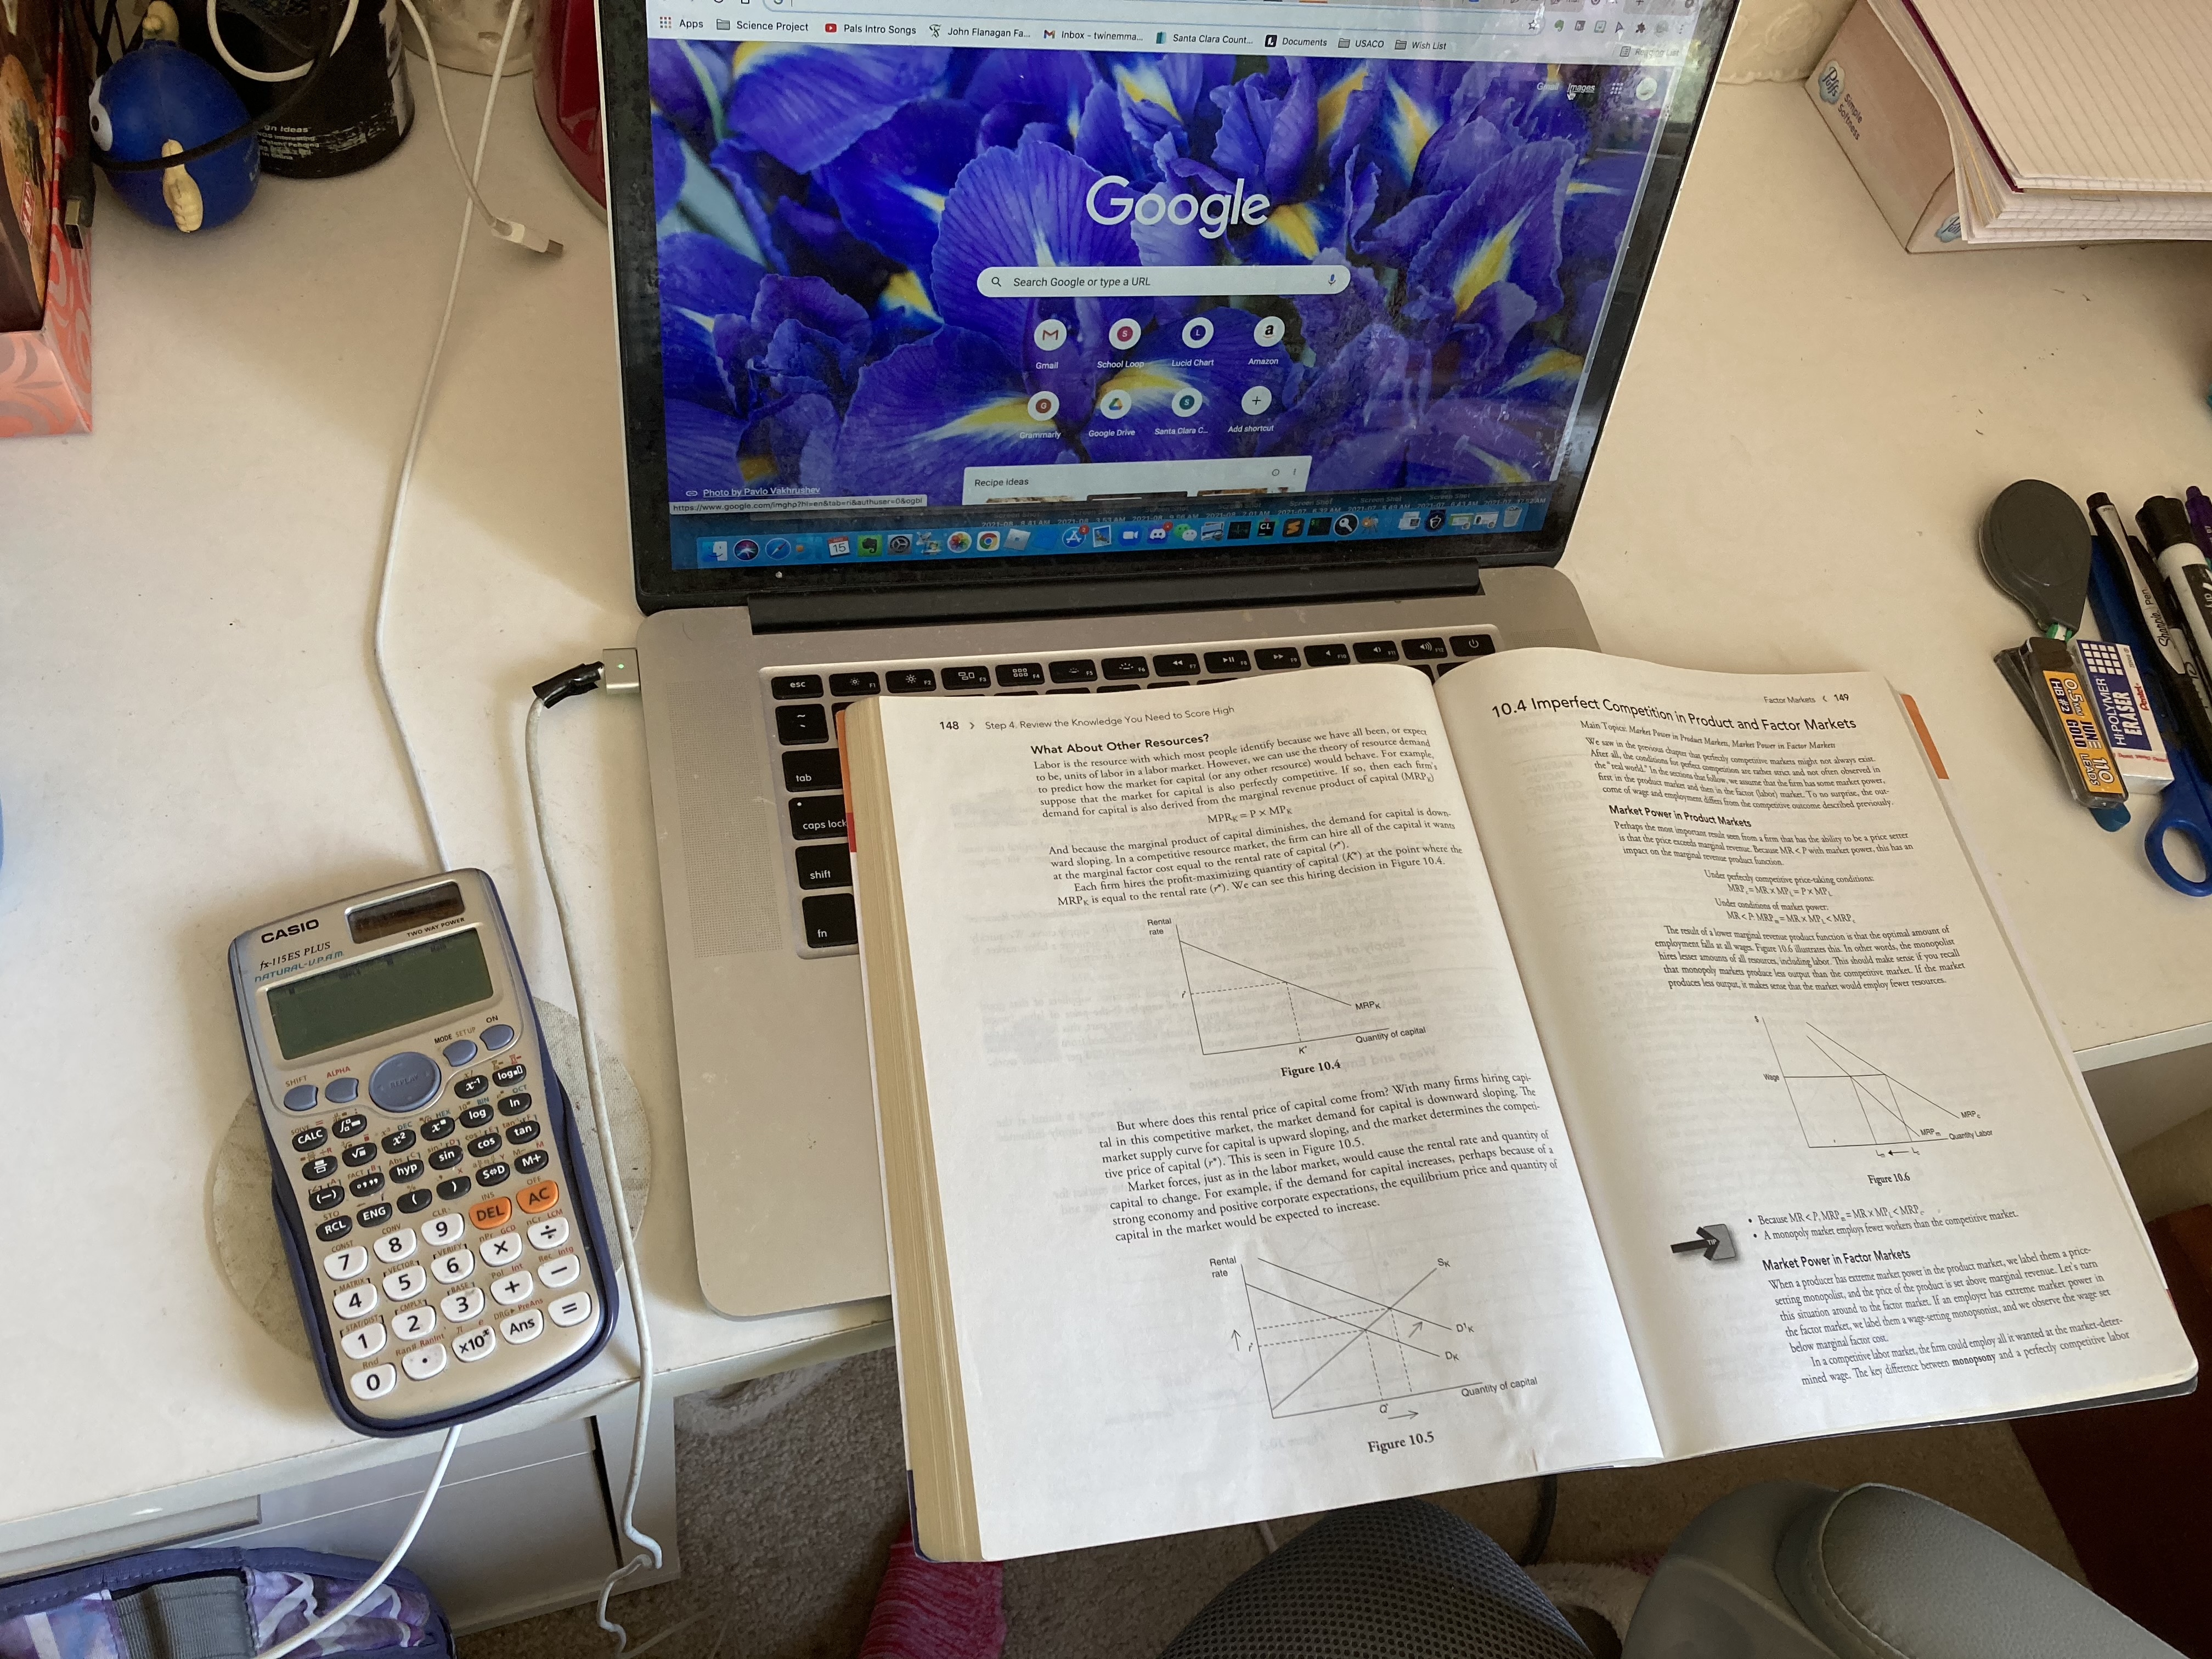Calculator: (212, 868, 622, 1425)
Open Book: (836, 652, 2196, 1558)
